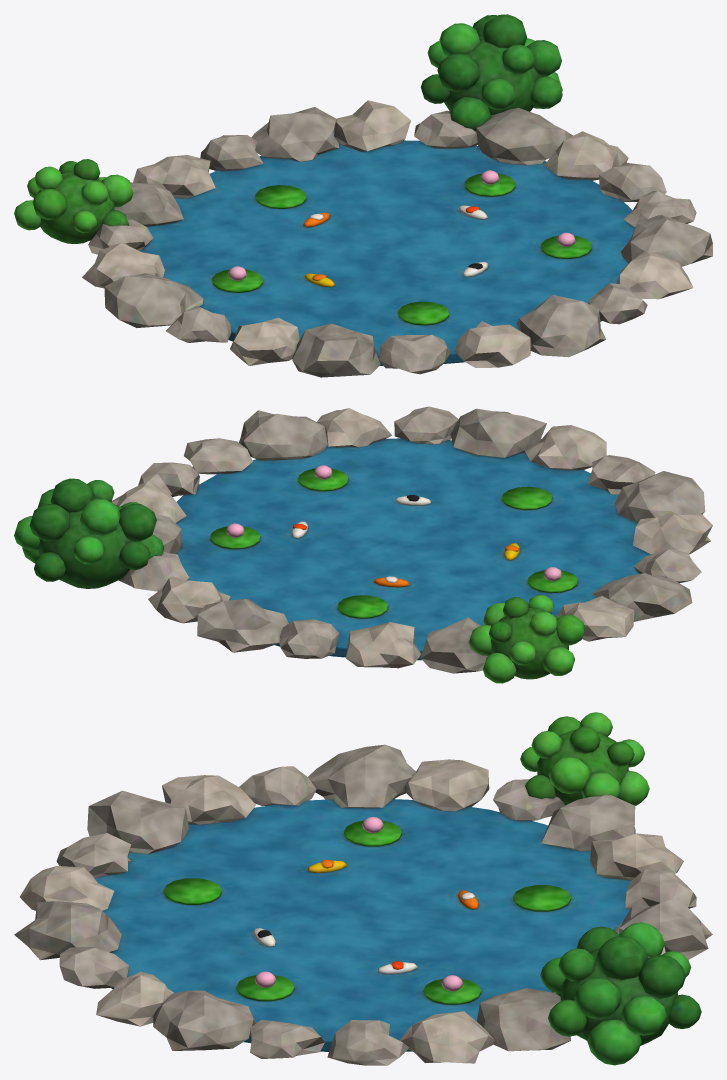
File: koi_pond.glb
3 views of the same model, one above another, from view 1: azimuth 30°, elevation 25°; view 2: azimuth 150°, elevation 25°; view 3: azimuth 270°, elevation 25° (orthographic). The views are drawn at different scales.
Visible parts, largest first — view 1: koi_pond; view 2: koi_pond; view 3: koi_pond.
Boxes of the visible parts, x1,y1,x2,y2 form: koi_pond: [14, 14, 712, 377]; koi_pond: [14, 406, 712, 683]; koi_pond: [14, 712, 712, 1065].
Bounding box in the file's own units: 2.01 × 0.357 × 1.93.
1 material, 1 textured.
